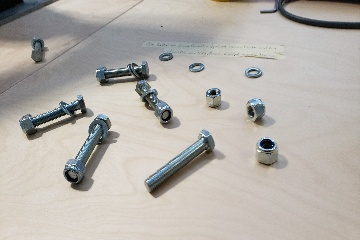Bolt: (140, 128, 217, 194)
FalseAssembly: (59, 113, 117, 187), (19, 91, 88, 134), (29, 34, 47, 63)
FinishedAssembly: (133, 80, 178, 126), (96, 58, 151, 82)
Nut: (256, 136, 279, 165), (246, 99, 266, 123), (206, 85, 224, 110)
Washer: (243, 66, 263, 78), (188, 62, 205, 74), (157, 52, 175, 62)
